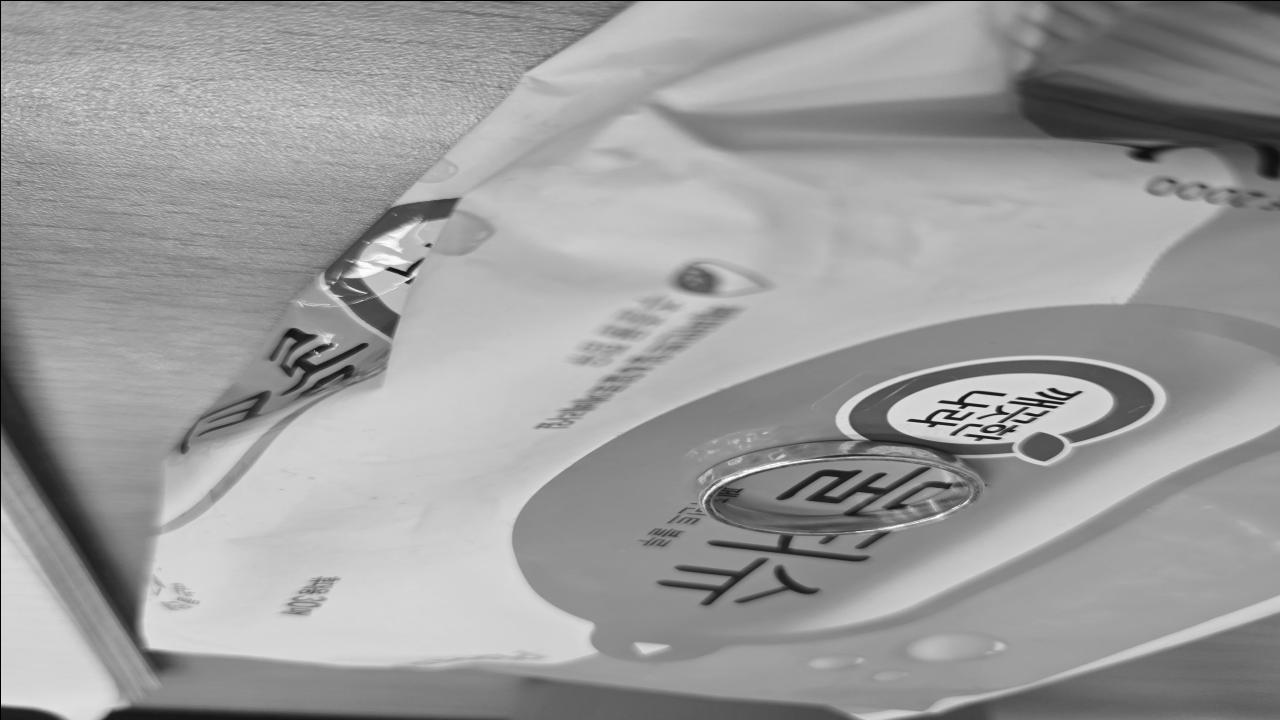ring: (693, 437, 981, 536)
